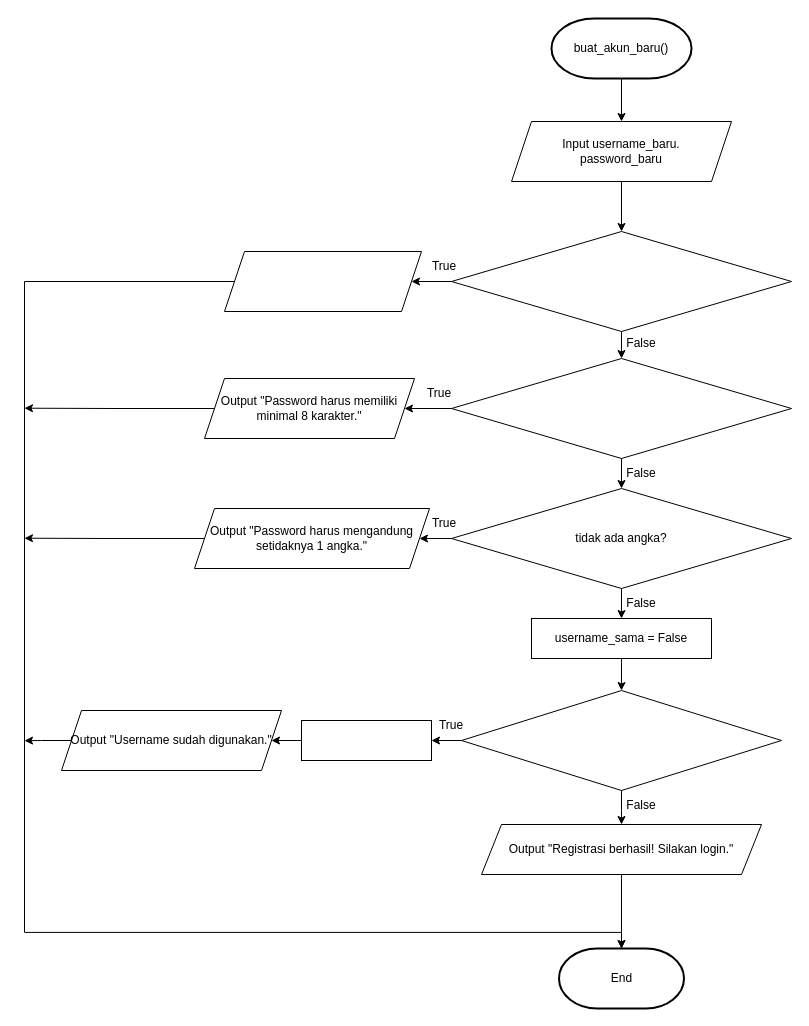
Image size: 809x1026. Some labels were removed from this diagram. The shapes that lost their labels are listed below. From the top down, each one's centre as x and y in pixels, then its label:
the point at 323,281: Output "Username dan password tidak boleh kosong."
the point at 621,281: username_baru == "" or password_baru == ""
the point at 621,408: jumlah karakter pada password_baru < 8
the point at 366,740: username_sama = True
the point at 621,740: username_baru == nama_akun
